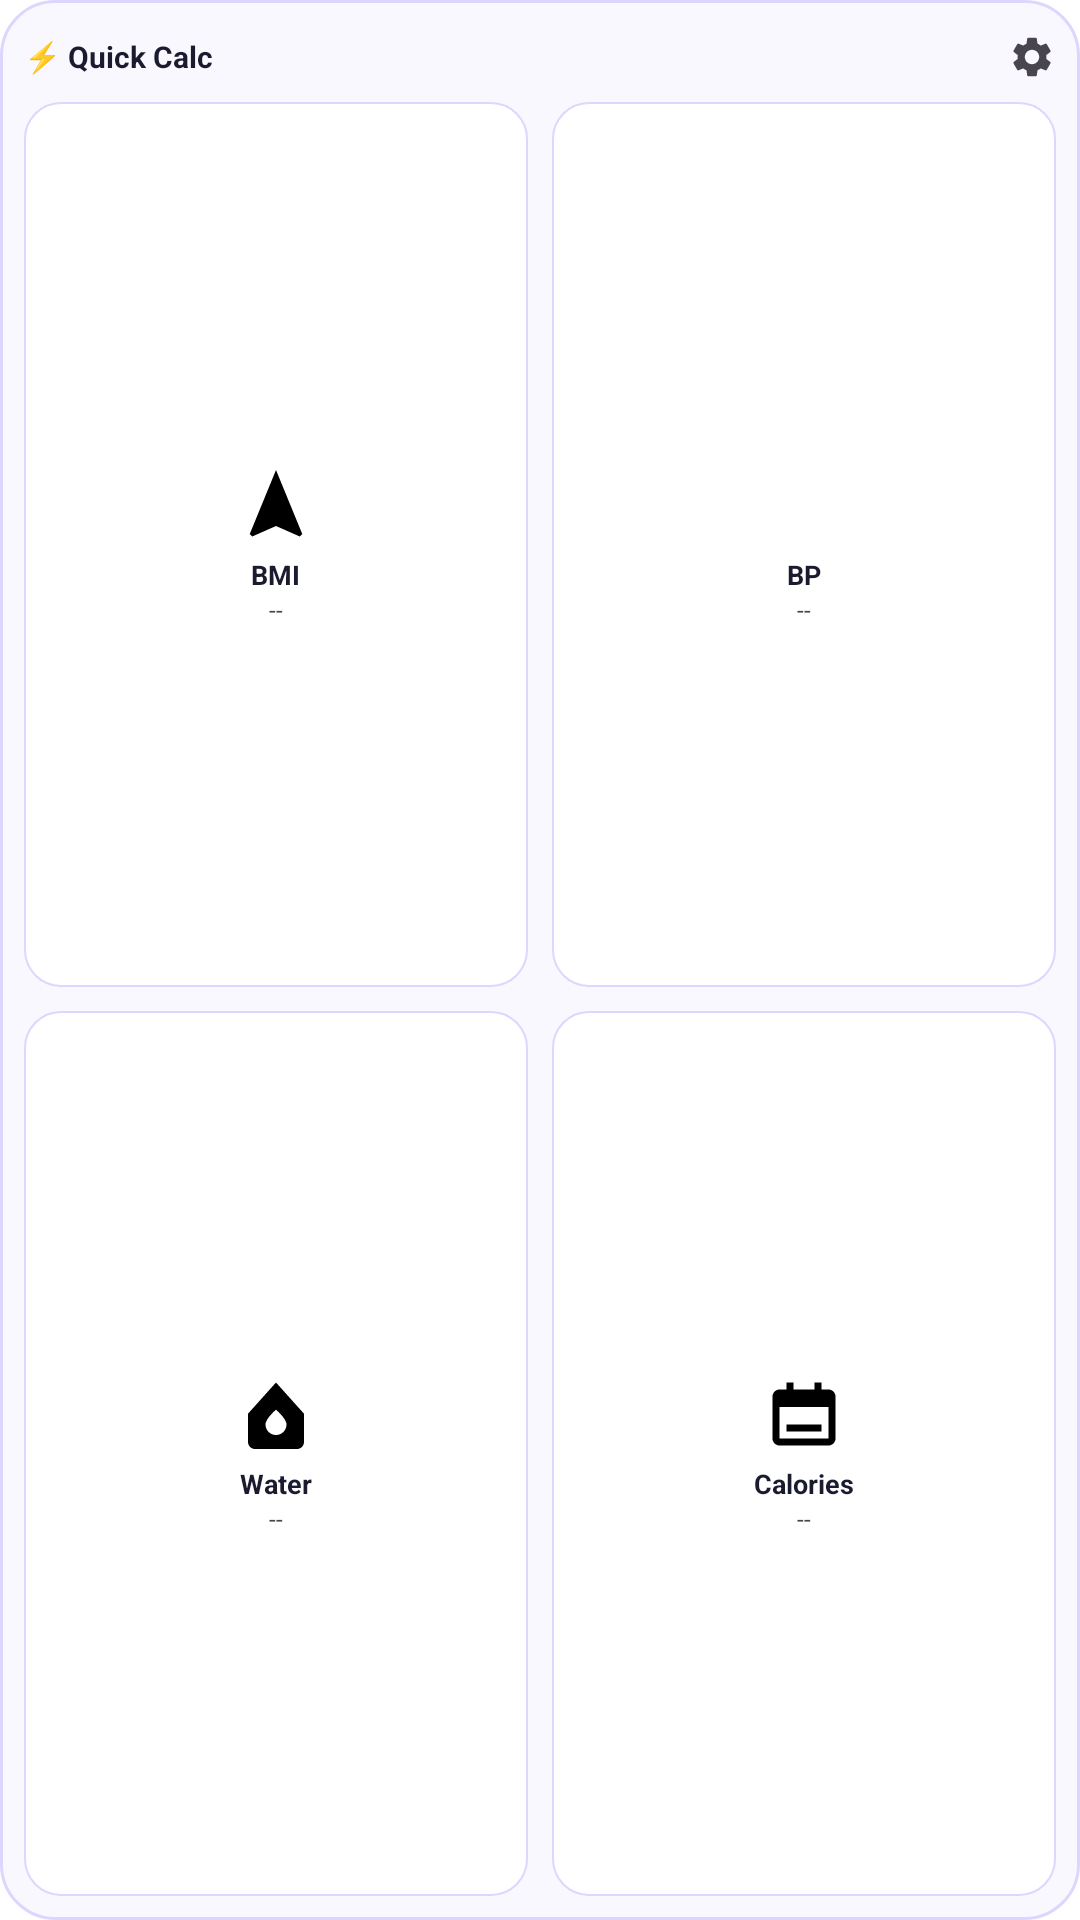

Icon bounding boxes for this 1080w x 1920h phone screenshot, format {"left": x1, "top": y1, "right": x2, "bottom": y2}:
Settings: {"left": 1013, "top": 37, "right": 1051, "bottom": 77}
